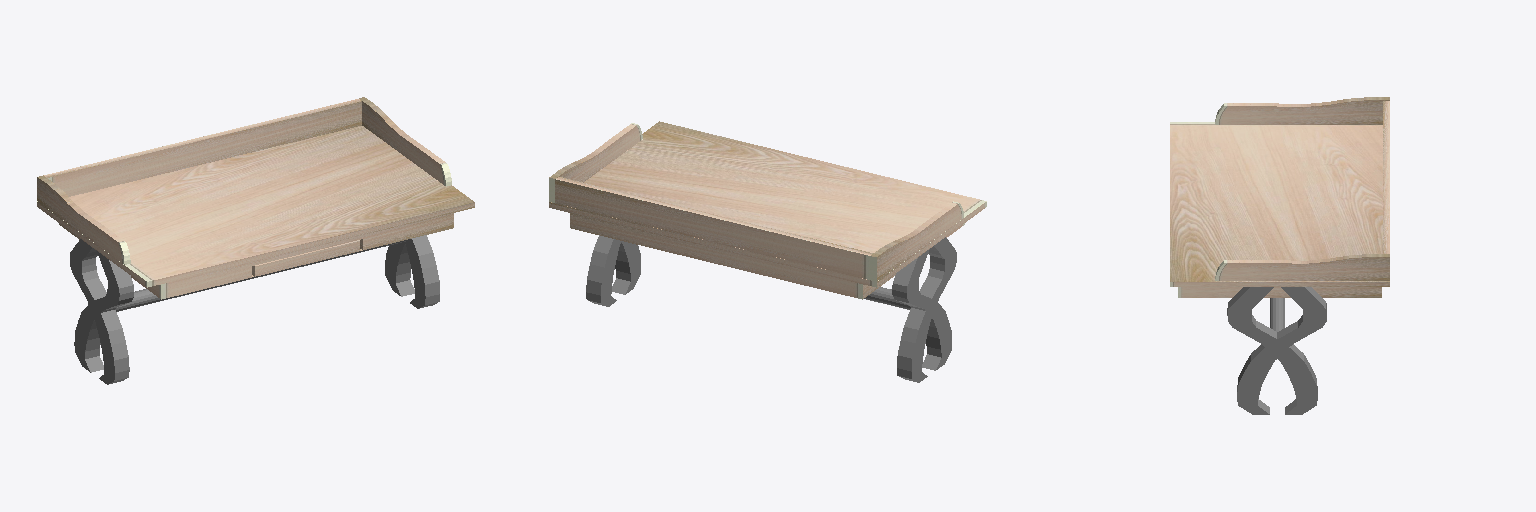
The picture shows the model from 3 angles: view 1: azimuth 30°, elevation 25°; view 2: azimuth 150°, elevation 25°; view 3: azimuth 270°, elevation 25°; orthographic projection.
Visible parts, largest first — view 1: Box001, Box003, Box002, Surface011, Surface036, Surface012, Surface037, Surface032, Surface031, Surface033, Cylinder001, Surface034 (+2 smaller); view 2: Box001, Box003, Box002, Surface036, Surface037, Surface011, Surface034, Surface012, Surface035, Surface033; view 3: Box001, Surface010, Surface009, Surface024, Surface031, Box002, Box003.
Part boxes in pixels (x1,y1,x2,y2): Box001: (37, 126, 474, 287); Box003: (44, 99, 361, 196); Box002: (59, 213, 453, 299); Surface011: (37, 176, 129, 264); Surface036: (74, 251, 119, 372); Surface012: (362, 99, 451, 185); Surface037: (70, 239, 128, 384); Surface032: (82, 248, 129, 384); Surface031: (412, 235, 439, 308); Surface033: (85, 260, 133, 368); Cylinder001: (115, 239, 408, 311); Surface034: (385, 241, 410, 296); Box001: (549, 121, 986, 287); Box003: (555, 177, 873, 279); Box002: (570, 213, 964, 299); Surface036: (897, 237, 956, 382); Surface037: (892, 249, 951, 369); Surface011: (871, 203, 963, 281); Surface034: (586, 235, 620, 306); Surface012: (549, 125, 642, 202); Surface035: (612, 241, 640, 294); Surface033: (897, 269, 931, 381); Box001: (1170, 122, 1389, 286); Surface010: (1215, 254, 1389, 280); Surface009: (1215, 97, 1389, 124); Surface024: (1227, 287, 1317, 414); Surface031: (1237, 287, 1326, 414); Box002: (1178, 287, 1381, 297); Box003: (1383, 101, 1389, 253).
Size of the model in its own units: 1440 by 664 by 840.
2 materials, 1 textured.